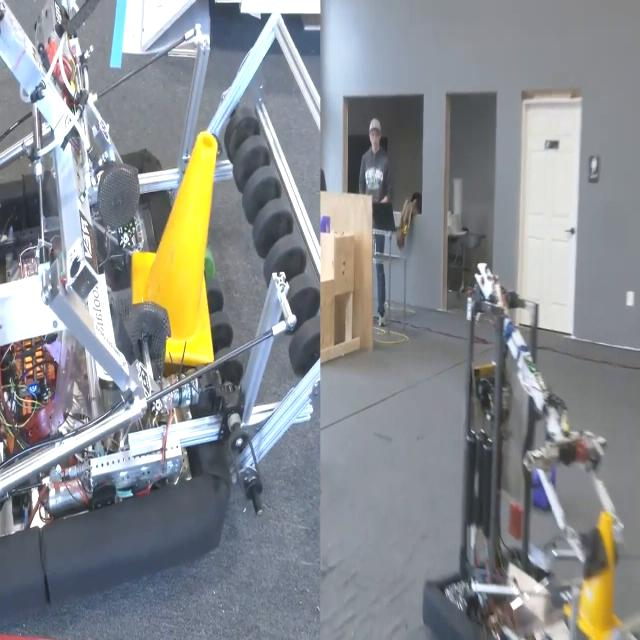frc_cone: (126, 131, 226, 365), (574, 514, 624, 640)
frc_cube: (316, 204, 332, 244)
